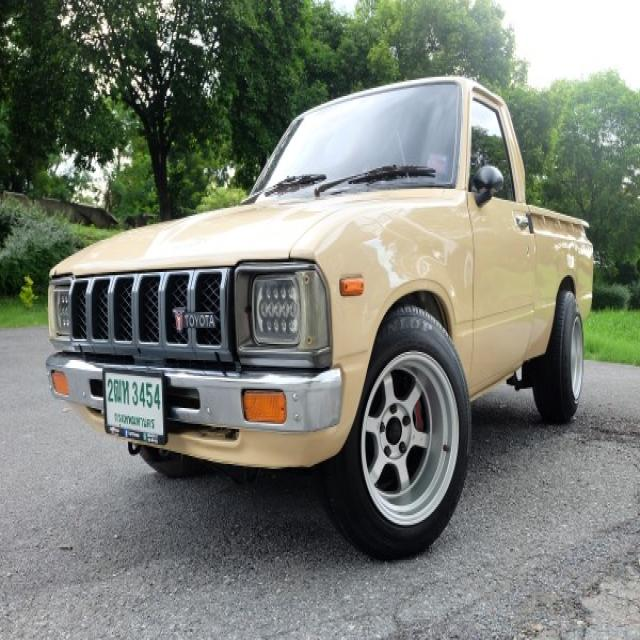license_plate: (101, 364, 169, 450)
